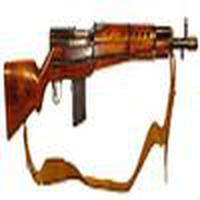gun: (1, 16, 200, 132)
